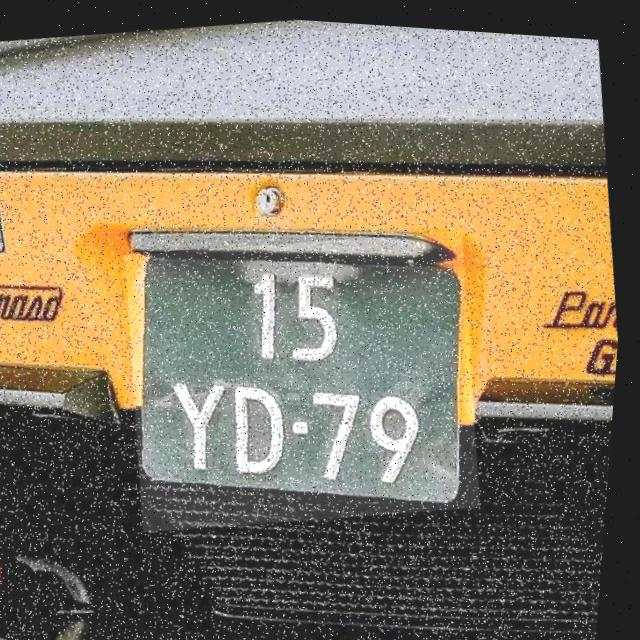LicensePlate: (113, 206, 503, 547)
